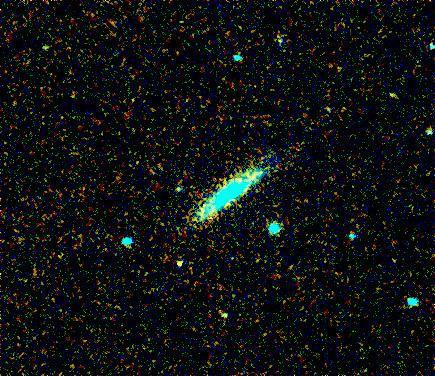star: (164, 243, 194, 273)
